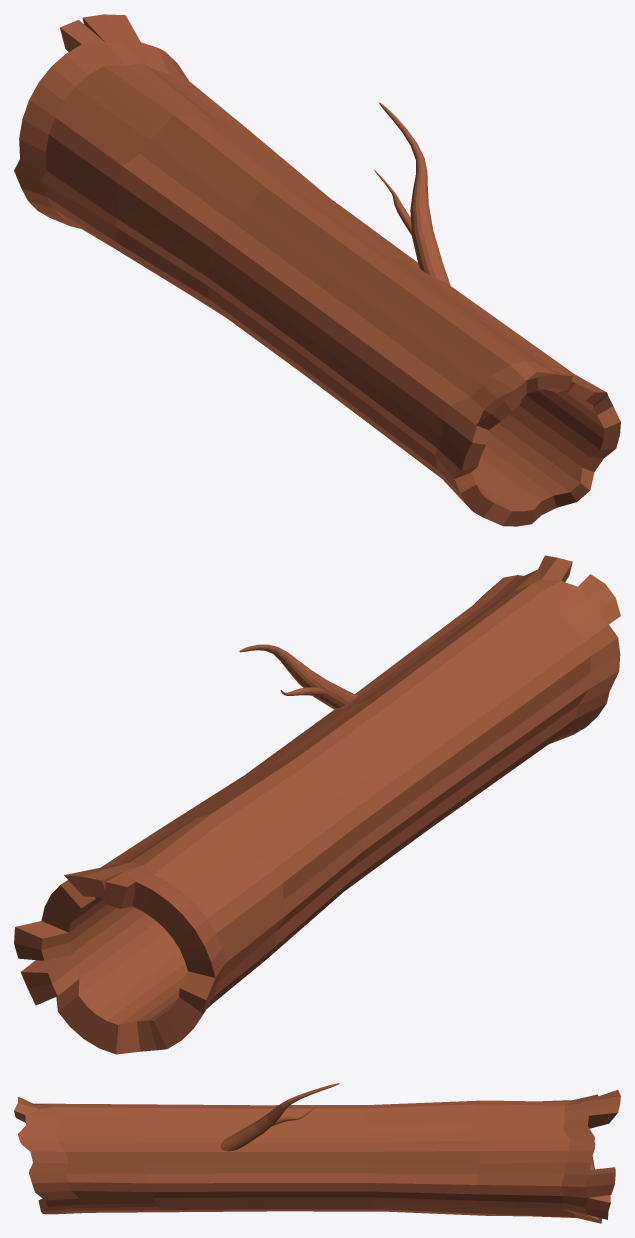
Rendered from Vneshnee_brevno.fbx.
3 views of the same model, one above another, from view 1: azimuth 30°, elevation 25°; view 2: azimuth 150°, elevation 25°; view 3: azimuth 270°, elevation 25° (orthographic). The views are drawn at different scales.
Visible parts, largest first — view 1: Внешняя часть, Ветка.001; view 2: Внешняя часть, Ветка.001; view 3: Внешняя часть, Ветка.001.
Part boxes in pixels (x1,y1,x2,y2): Внешняя часть: [14, 14, 620, 526]; Ветка.001: [379, 102, 450, 285]; Внешняя часть: [14, 555, 620, 1054]; Ветка.001: [239, 644, 357, 709]; Внешняя часть: [14, 1090, 620, 1223]; Ветка.001: [220, 1083, 339, 1151].
Bounding box in the file's own units: 303 × 388 × 1345.
